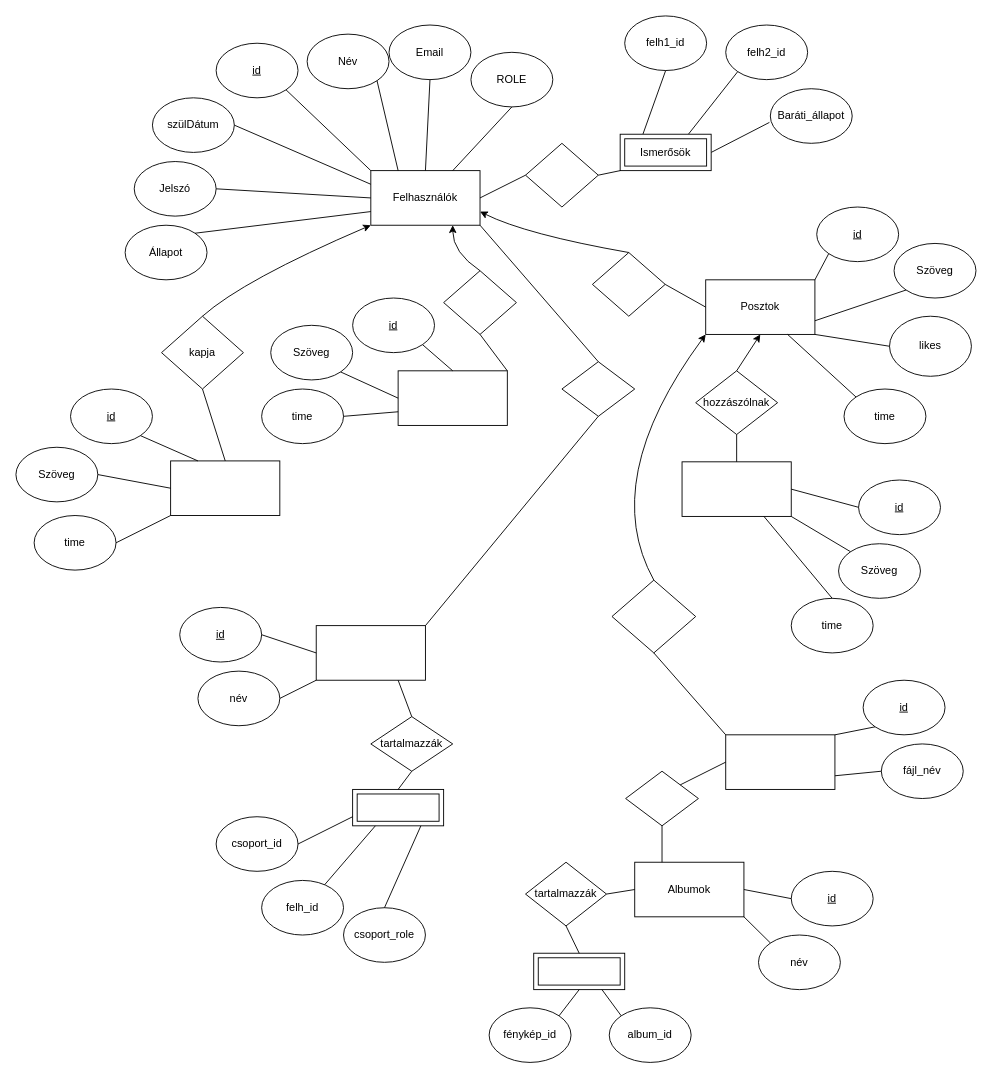
This 992x1078 diagram has some shape labels left out. The shapes that lost their labels are listed below. From the top down, each one's centre as x and y in pixels, then its label:
(561,174): ismerik egymást
(479,302): küldenek
(628,284): létrehoznak
(452,397): Üzenetek
(598,388): tagja
(225,488): Értesítések
(736,488): Kommentek
(653,616): hozzácsatol
(370,652): Csoportok
(780,761): Fényképek
(398,807): Tagok
(661,798): rendezhetők
(579,971): Albumképek
